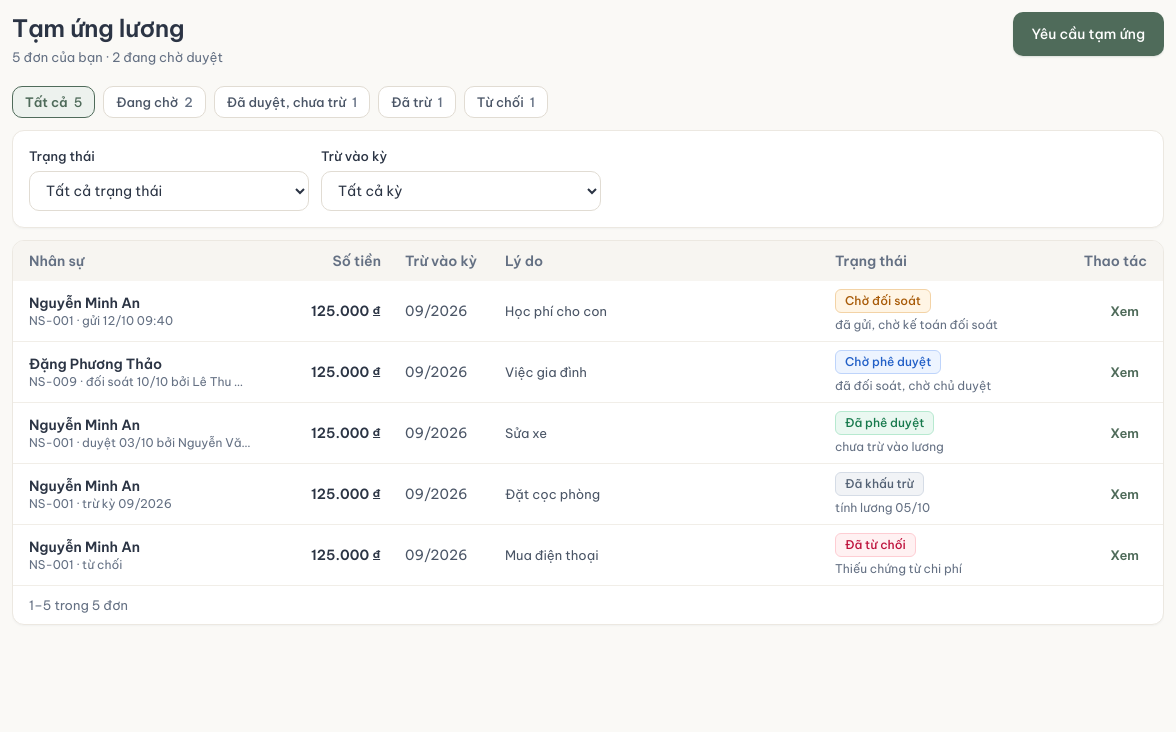
Scenario: Advances list redesign › offers Đang chờ instead of Cần xử lý to a viewer without review or approval
Expected: the text "5 đơn của bạn · 2 đang chờ duyệt" is shown, [12,48,223,66]
Click the button named "Đang chờ2".
click(154, 102)  # box [103,86,206,118]
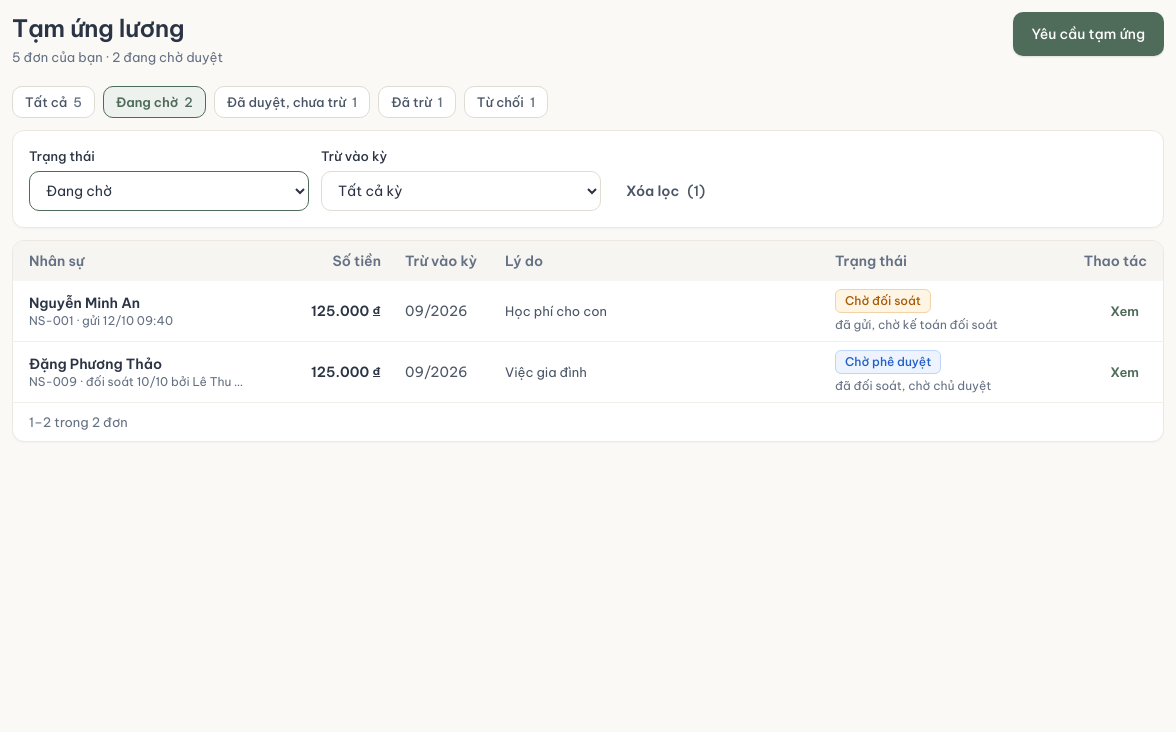
Expected: the number of buttons named "Xem chi tiết tạm ứng của " is 4
